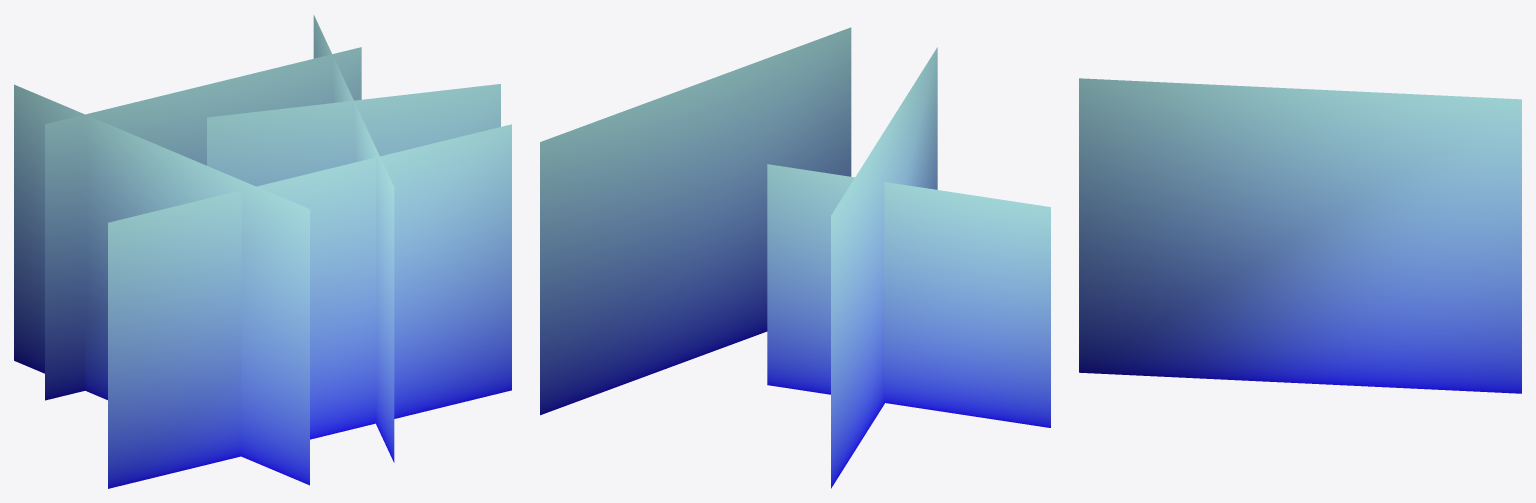
File: SM_Env_Grass_Tall_Clump_02.glb
3 renders of one model, left to right at view 1: azimuth 30°, elevation 25°; view 2: azimuth 150°, elevation 25°; view 3: azimuth 270°, elevation 25°, orthographic.
Visible parts, largest first — view 1: SM_Env_Grass_Tall_Clump_02_LOD0; view 2: SM_Env_Grass_Tall_Clump_02_LOD0; view 3: SM_Env_Grass_Tall_Clump_02_LOD0.
Boxes of the visible parts, box(x1,y1,x2,y2) form: SM_Env_Grass_Tall_Clump_02_LOD0: box(14, 15, 511, 488); SM_Env_Grass_Tall_Clump_02_LOD0: box(540, 27, 1050, 488); SM_Env_Grass_Tall_Clump_02_LOD0: box(1079, 78, 1521, 393).
Size of what is drawn, in the model's own units: 1.79 by 1.07 by 1.45.
